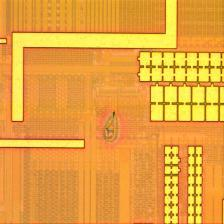PARTICLE: (97, 110, 127, 146)
